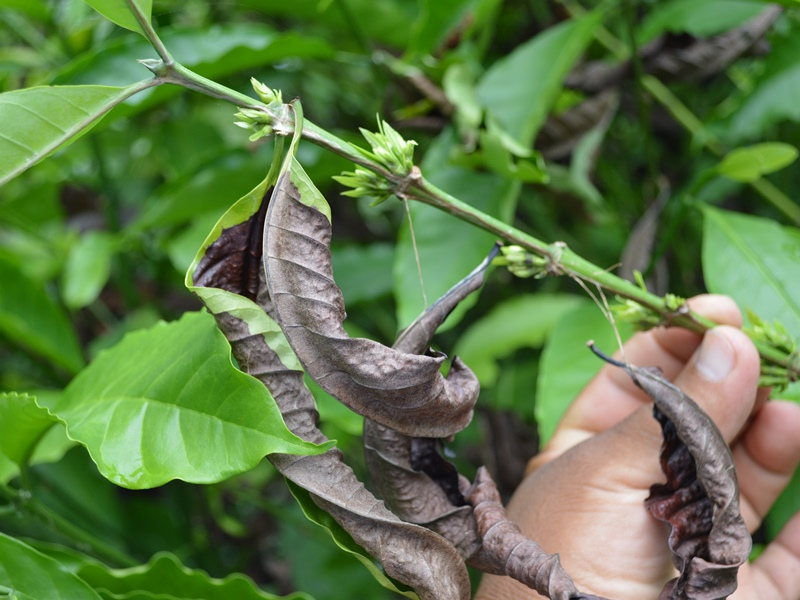mal de hilachas: (211, 146, 482, 470), (561, 267, 785, 600)
